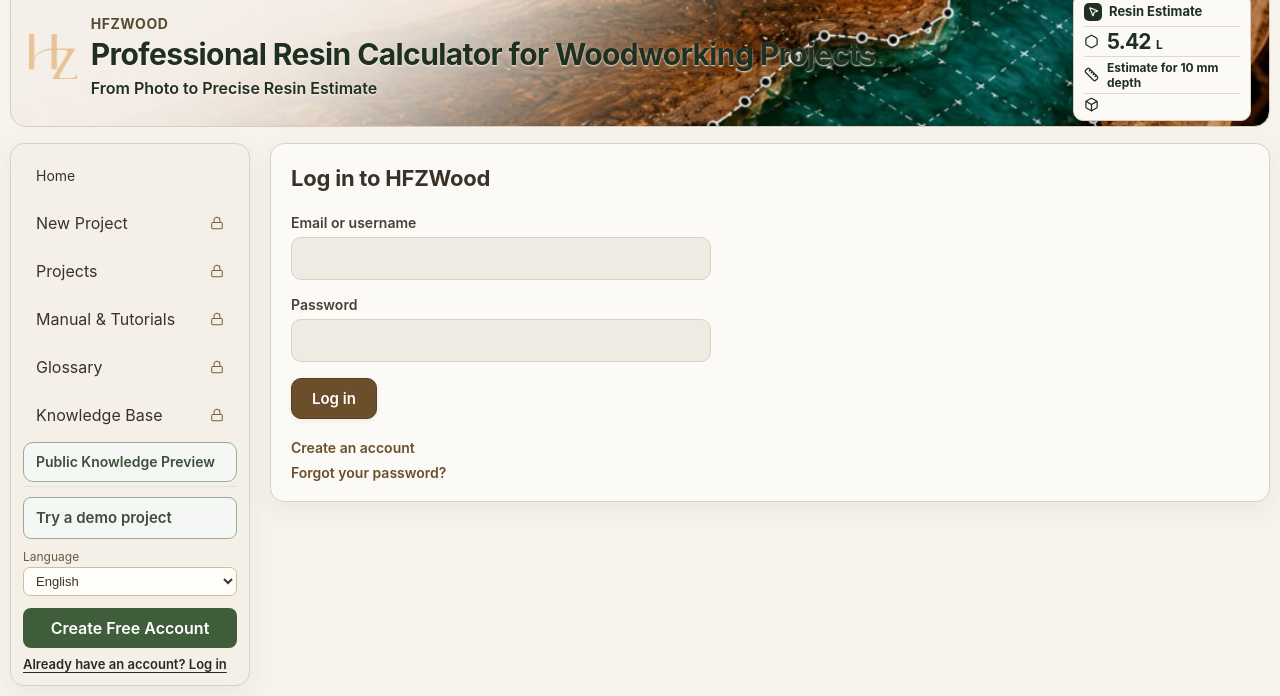
Test: Auth flow › login unlocks navigation
The width and height of the screenshot is (1280, 696).
Expected: the button "New Project" is shown, [23,202,237,244]
Type "user@example.com" into the field labelled "Email or username".
click(501, 258); type("user@example.com")  # box [291,237,711,280]
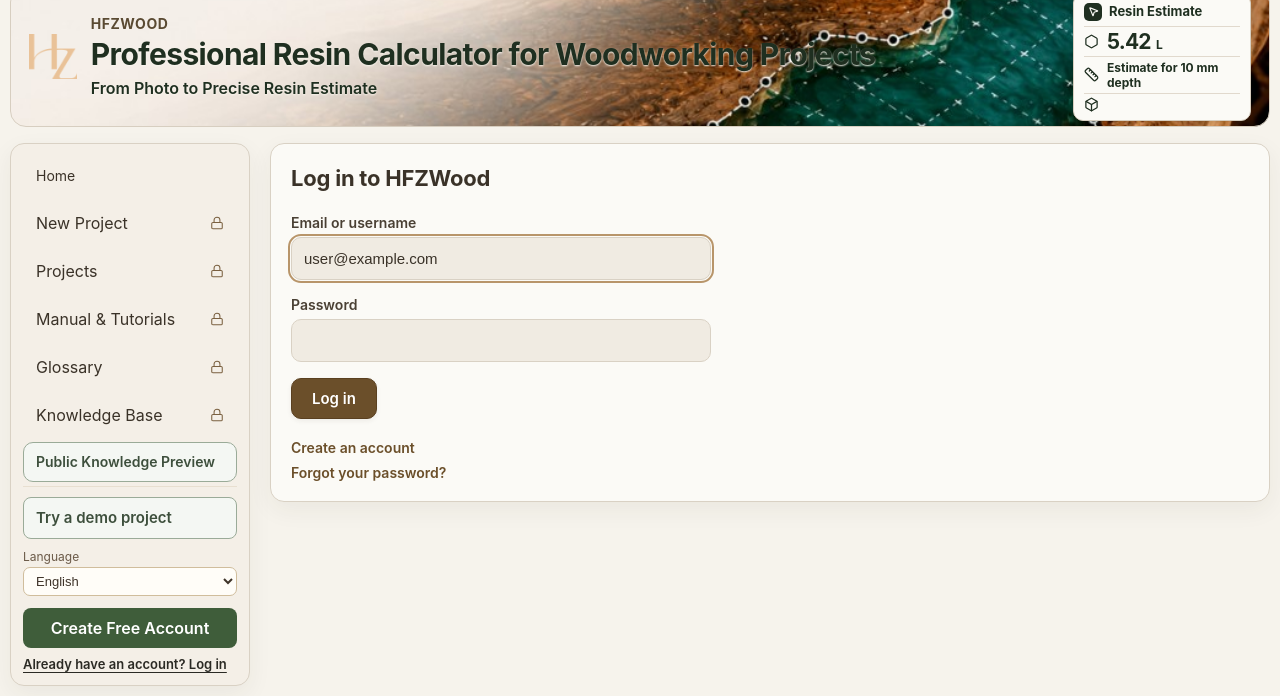
Type "password123" into the password field labelled "Password".
click(501, 340); type("password123")  # box [291,319,711,362]
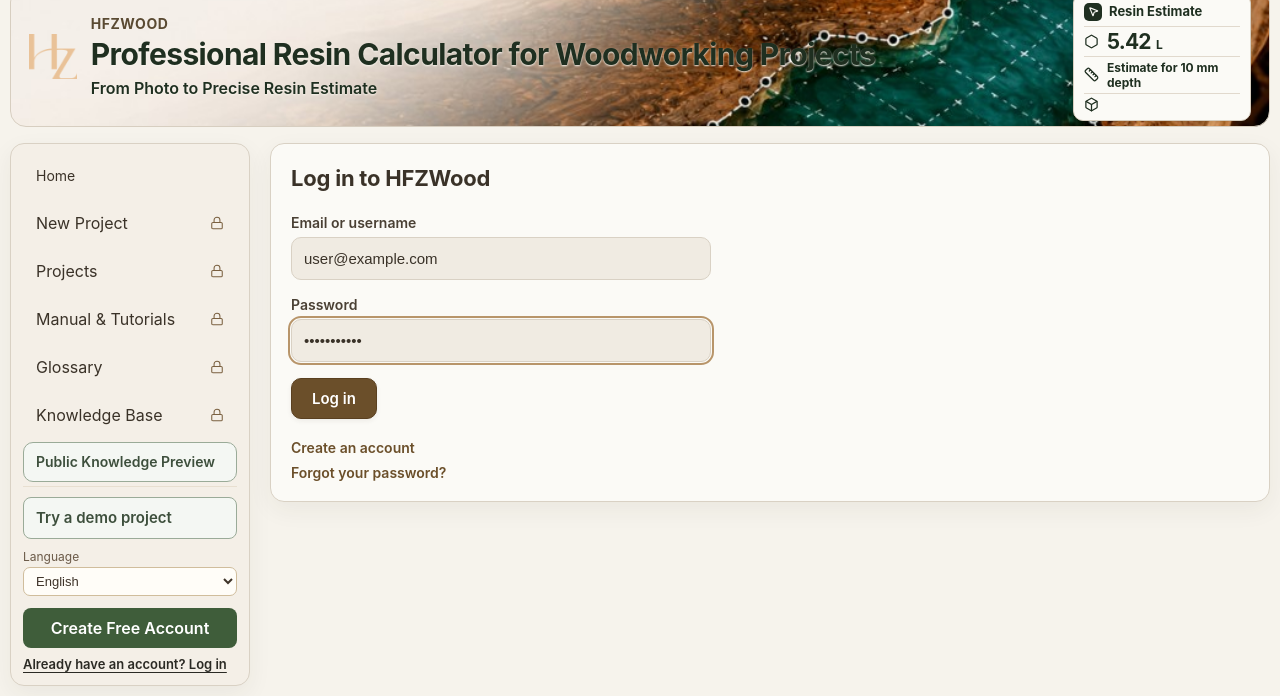
Click the button "Log in".
click(334, 398)  # box [291,378,377,419]
(page scrolled)
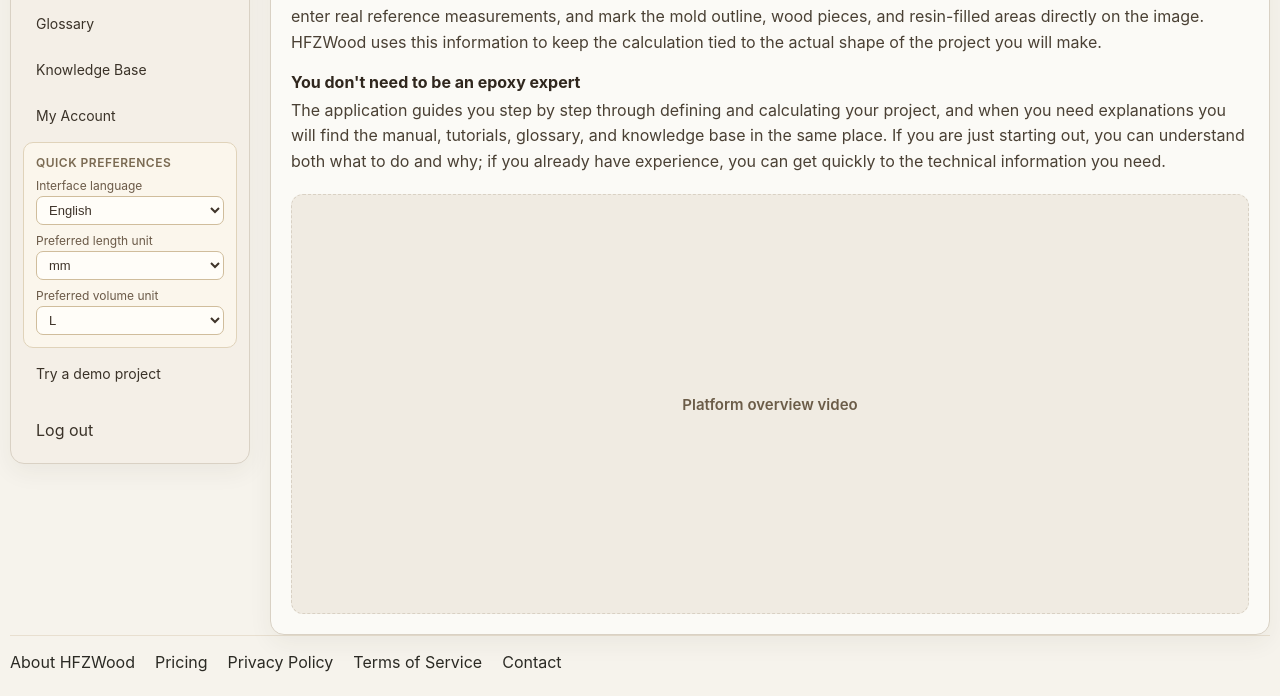
Expected: the button "New Project" is not shown
Expected: the button "Log out" is shown, [23,408,237,450]
